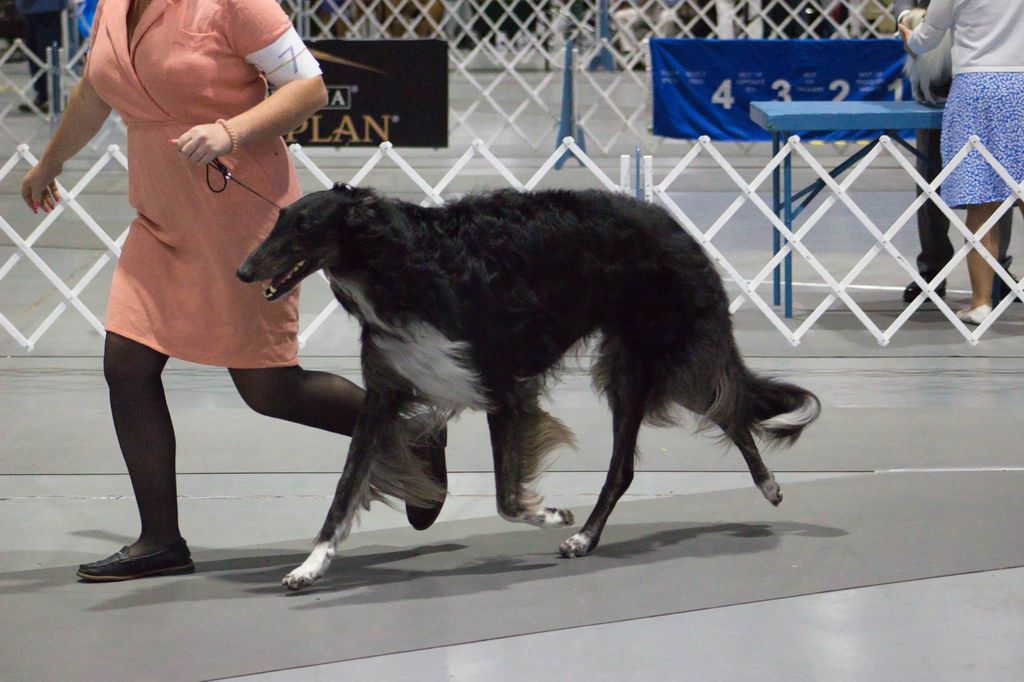borzoi: (228, 187, 819, 592)
